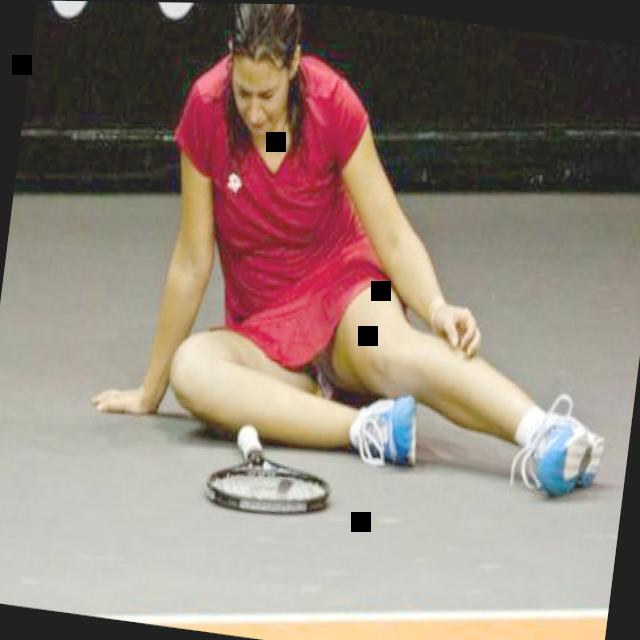Fall-Detected: (113, 1, 640, 494)
